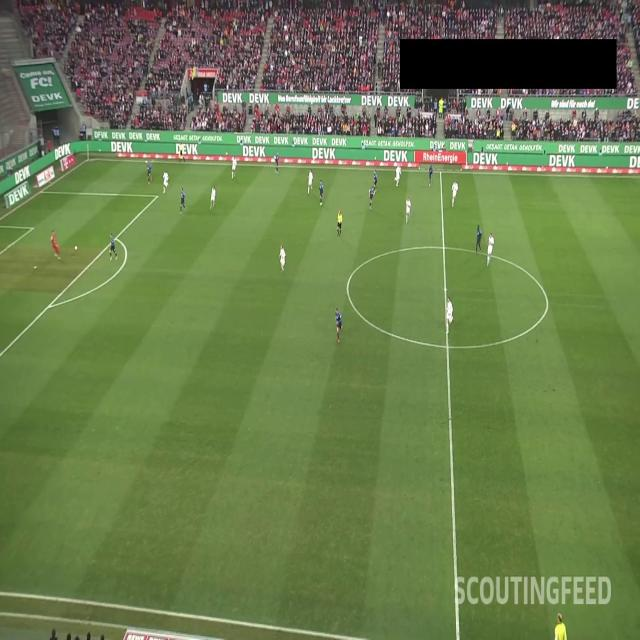ball: (75, 244, 78, 250)
team1: (334, 307, 344, 343), (109, 234, 118, 263), (178, 187, 186, 215), (475, 224, 482, 255), (145, 158, 153, 184), (367, 185, 375, 208), (372, 170, 378, 194), (319, 180, 324, 206), (428, 164, 433, 187), (275, 153, 280, 175)
team2: (444, 296, 454, 334), (486, 230, 495, 268), (451, 180, 459, 207), (279, 243, 286, 273), (394, 162, 402, 188), (161, 170, 169, 194), (230, 156, 237, 182), (405, 196, 411, 224), (210, 185, 216, 210), (308, 168, 313, 196)
